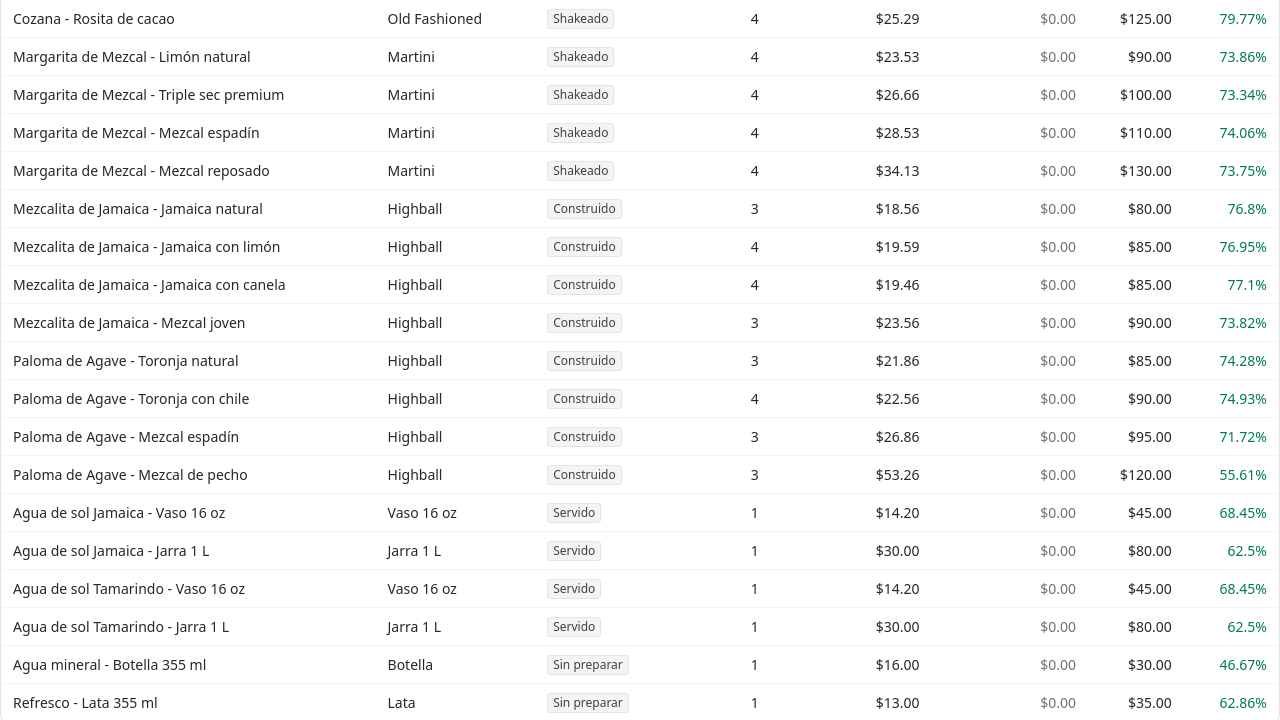
it: <RecetasPage> › el detalle muestra el BOM con su costo por ingrediente
(page scrolled)
Click the cell "Paloma de Agave - Toronja natural".
click(188, 360)  # box left=1, top=342, right=376, bottom=380
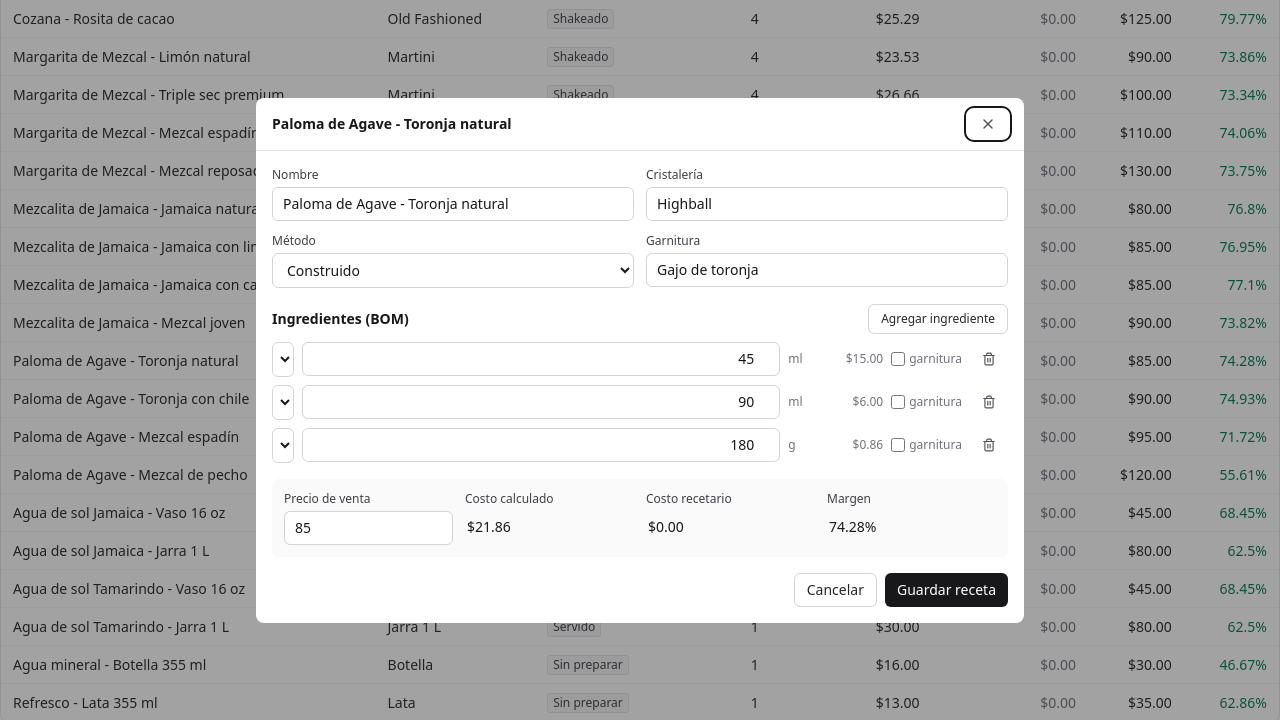
Now the heading "Ingredientes (BOM)" is shown, box left=272, top=308, right=409, bottom=328
Now the number of dropdowns named "Insumo" is 3, box left=272, top=342, right=294, bottom=376; left=272, top=384, right=294, bottom=420; left=272, top=428, right=294, bottom=462
